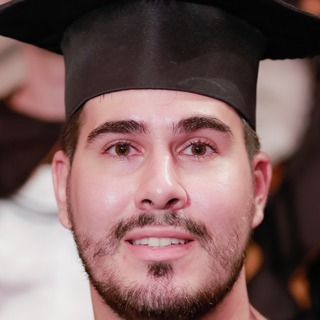eye: (99, 136, 148, 164), (175, 135, 224, 161)
